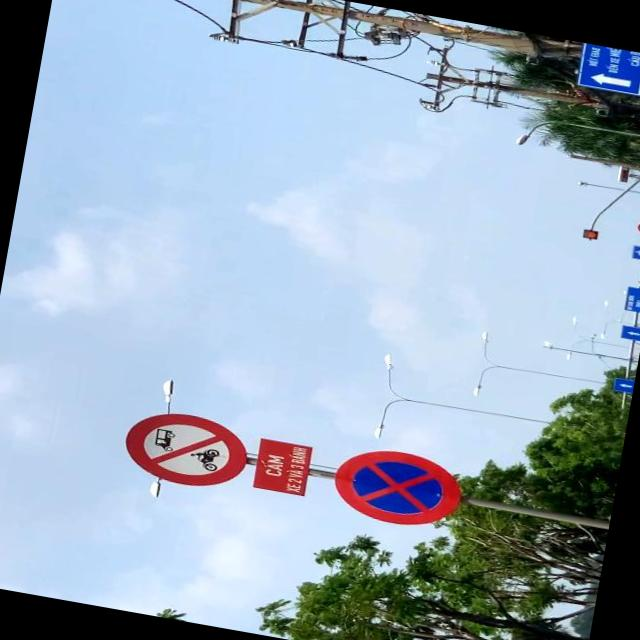P-104: (118, 404, 250, 492)
P-130: (326, 442, 466, 532)
